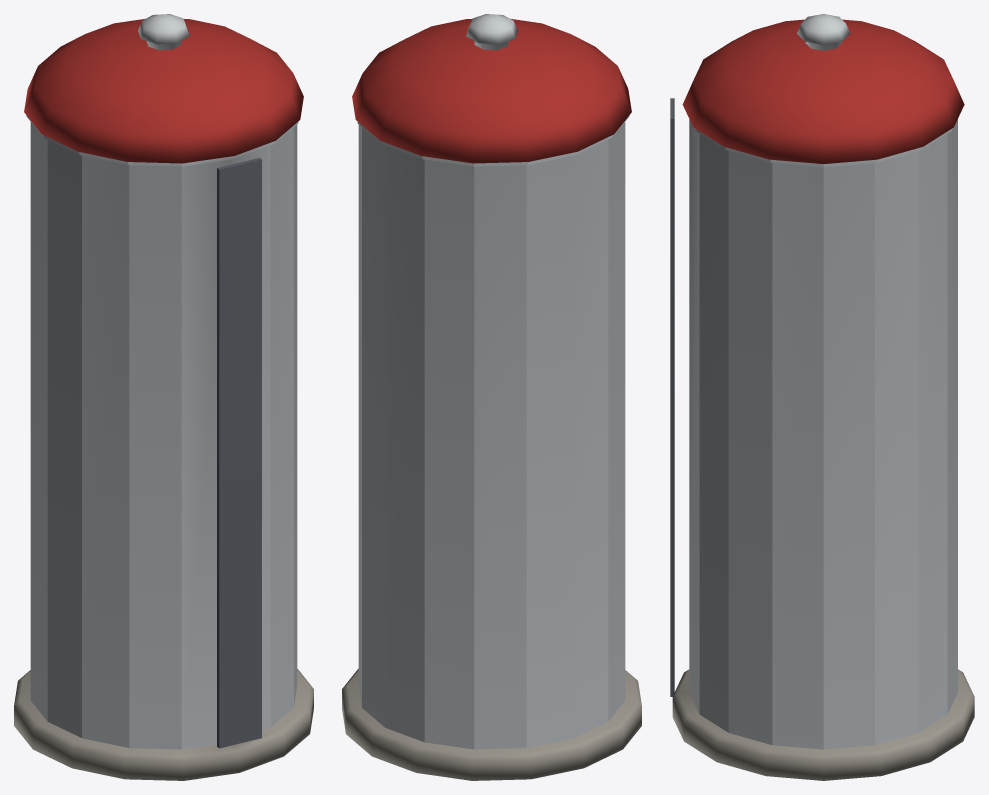
Rendered from silo.far.glb.
The picture shows the model from 3 angles, left to right: view 1: azimuth 30°, elevation 25°; view 2: azimuth 150°, elevation 25°; view 3: azimuth 270°, elevation 25°; orthographic projection.
Parts seen in each view (by area): view 1: silo_far; view 2: silo_far; view 3: silo_far.
Boxes of the visible parts, <box> form: silo_far: <box>14,14,313,780</box>; silo_far: <box>342,14,641,780</box>; silo_far: <box>670,14,974,780</box>.
Bounding box in the file's own units: 2.7 × 6.9 × 2.72.
